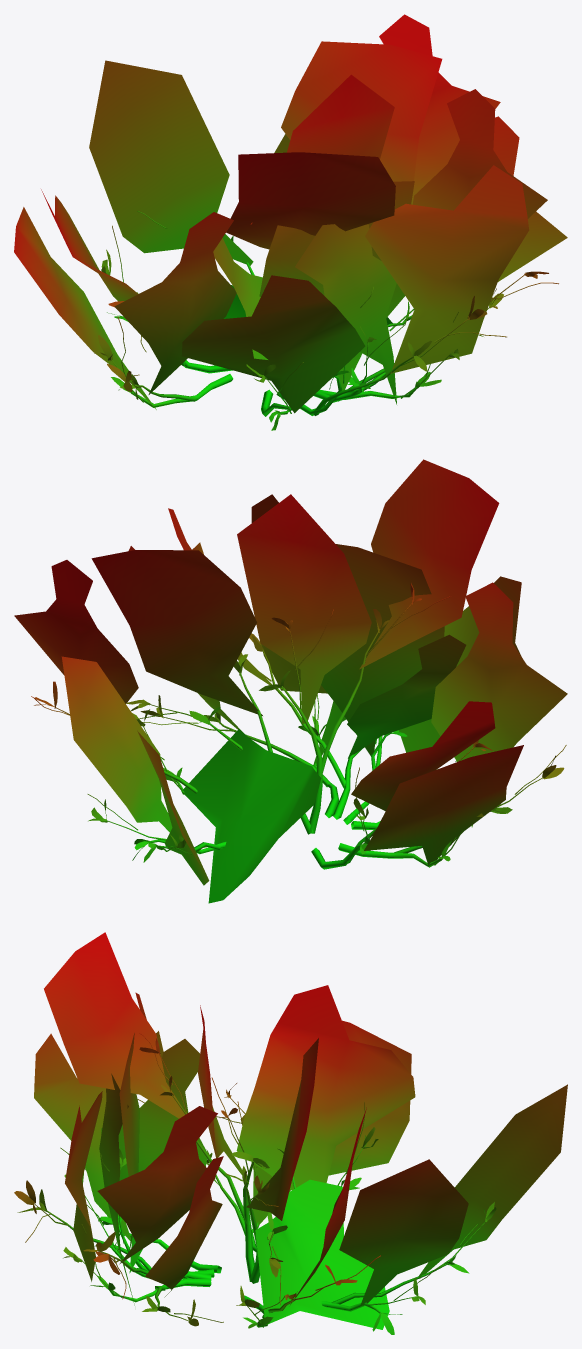
The model's file is Downy Willow_LOD5_Var4_wknlfiuqx.fbx.
The picture shows the model from 3 angles, top to bottom: view 1: azimuth 30°, elevation 25°; view 2: azimuth 150°, elevation 25°; view 3: azimuth 270°, elevation 25°; orthographic projection. The views are drawn at different scales.
Parts seen in each view (by area): view 1: _vvul_Var4_LOD5; view 2: _vvul_Var4_LOD5; view 3: _vvul_Var4_LOD5.
Boxes of the visible parts, box(x1,y1,x2,y2) form: _vvul_Var4_LOD5: box(14, 14, 567, 430); _vvul_Var4_LOD5: box(14, 459, 567, 903); _vvul_Var4_LOD5: box(14, 932, 567, 1334).
Size of the model in its own units: 127 by 82.9 by 125.
